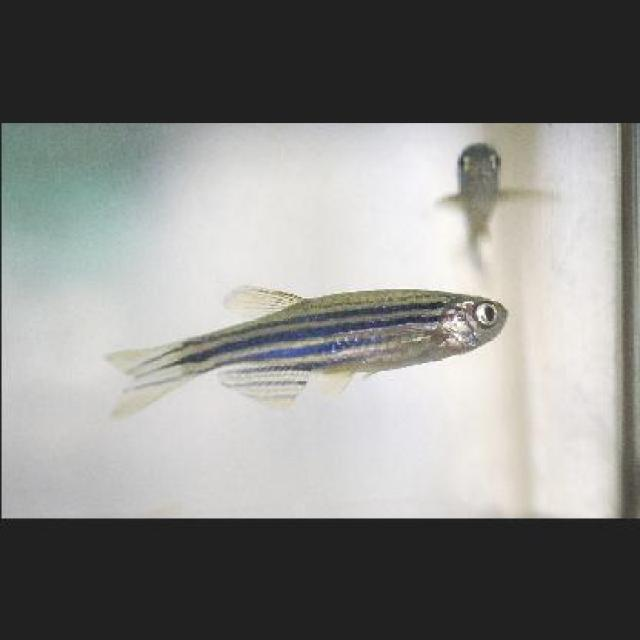ZebraFish: (100, 279, 509, 419)
